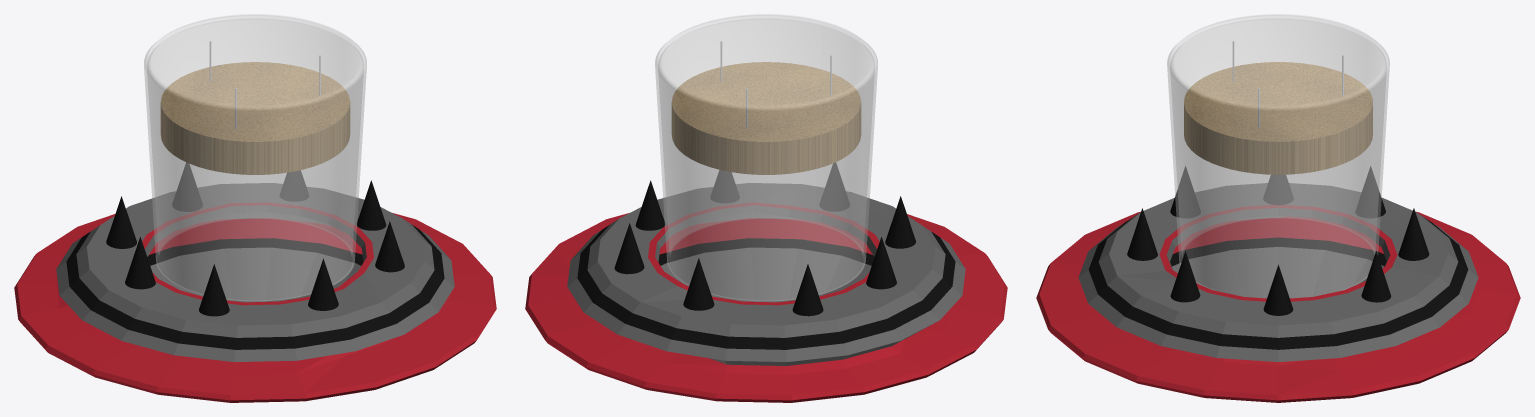
File: opus55_t03.glb
3 views of the same model, side by side, from view 1: azimuth 30°, elevation 25°; view 2: azimuth 150°, elevation 25°; view 3: azimuth 270°, elevation 25° (orthographic).
Parts seen in each view (by area): view 1: slot_anchor_saucer, cover_glass, cover_disc; view 2: slot_anchor_saucer, cover_glass, cover_disc; view 3: slot_anchor_saucer, cover_glass, cover_disc.
Part boxes in pixels (x1,y1,x2,y2): slot_anchor_saucer: (14, 162, 496, 402); cover_glass: (144, 14, 366, 300); cover_disc: (160, 62, 350, 174); slot_anchor_saucer: (525, 162, 1007, 402); cover_glass: (655, 14, 877, 300); cover_disc: (671, 62, 861, 174); slot_anchor_saucer: (1036, 166, 1520, 402); cover_glass: (1167, 14, 1389, 297); cover_disc: (1184, 62, 1372, 174).
Size of the model in its own units: 2 by 1.43 by 2.
4 materials, 2 textured.
